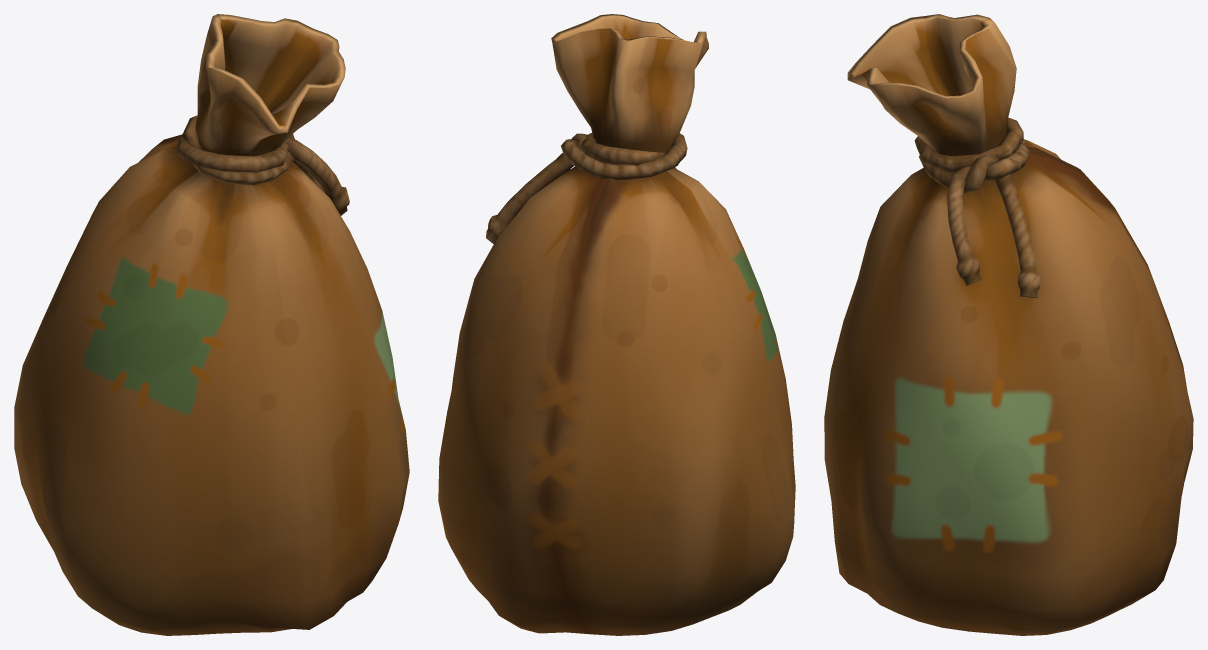
The model's file is мешок.fbx.
3 renders of one model, left to right at view 1: azimuth 30°, elevation 25°; view 2: azimuth 150°, elevation 25°; view 3: azimuth 270°, elevation 25°, orthographic. The views are drawn at different scales.
Visible parts, largest first — view 1: мешок со шнуром; view 2: мешок со шнуром; view 3: мешок со шнуром.
Part boxes in pixels (x1,y1,x2,y2): мешок со шнуром: (14, 14, 409, 635); мешок со шнуром: (438, 14, 795, 635); мешок со шнуром: (824, 14, 1193, 635).
Size of the model in its own units: 42.03 by 70.73 by 41.25.
1 material, 1 textured.
